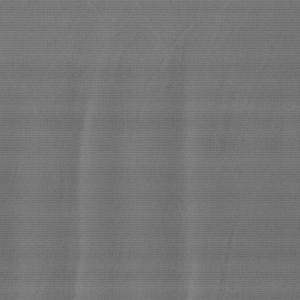Wrinkle: (57, 39, 245, 300)
